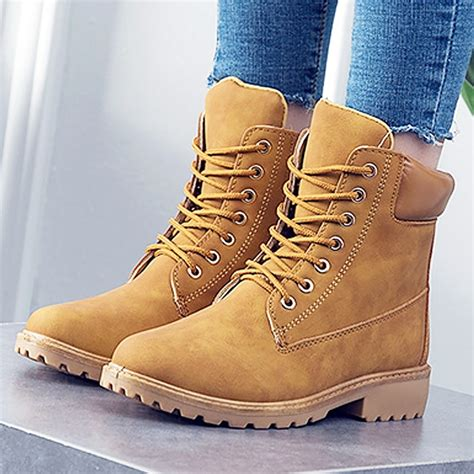cuero: (23, 76, 456, 405)
